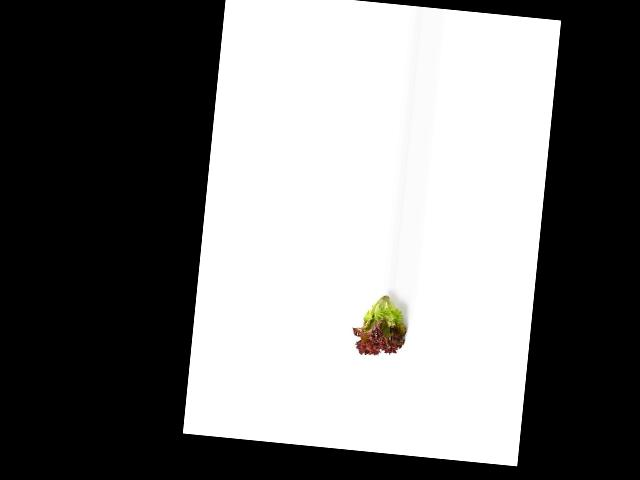lettuce: (351, 284, 411, 361)
